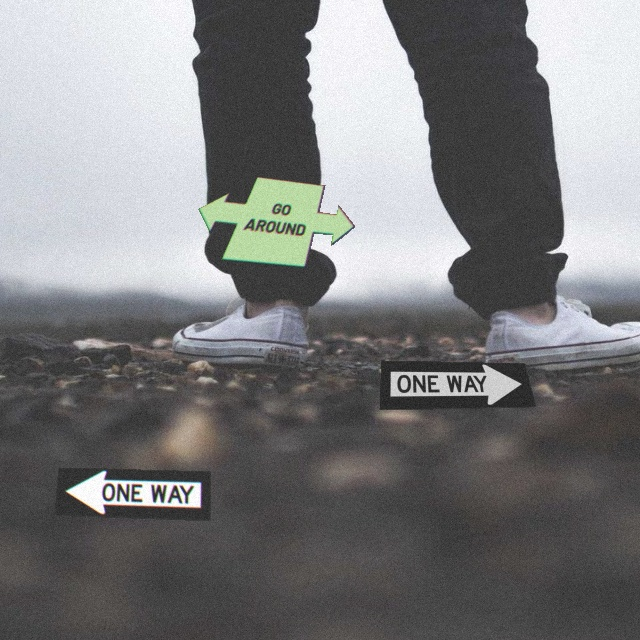GO_AROUND: (198, 176, 355, 268)
ONE_WAY_ left: (54, 467, 211, 521)
ONE_WAY_ right: (379, 360, 536, 410)
